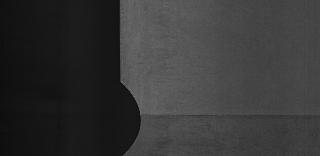welding line: (134, 111, 320, 125)
